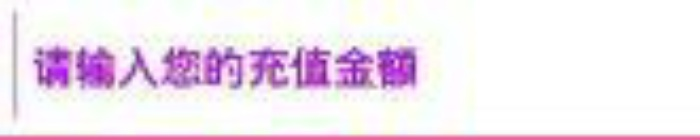EditText: (1, 1, 699, 139)
